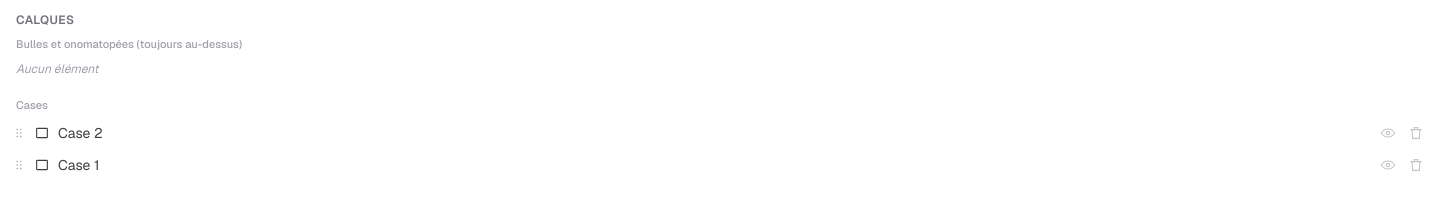
layers panel › selects on click, adds with Shift, hides with the eye and deletes with the bin
Later steps or results of the test are not shown.
What coordinates should you click on to do the following:
click the button "Case 1"
I would click on:
 (79, 165)
Its box is [34, 149, 1372, 181].
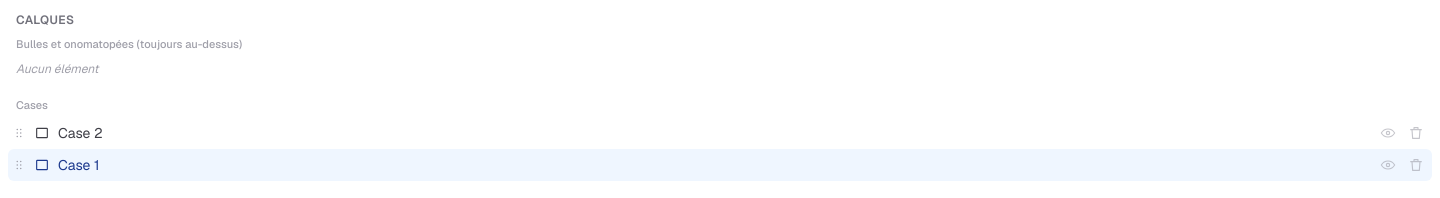
What coordinates should you click on to do the following:
click the button "Case 2"
I would click on:
 (80, 133)
Its box is [34, 117, 1372, 149].
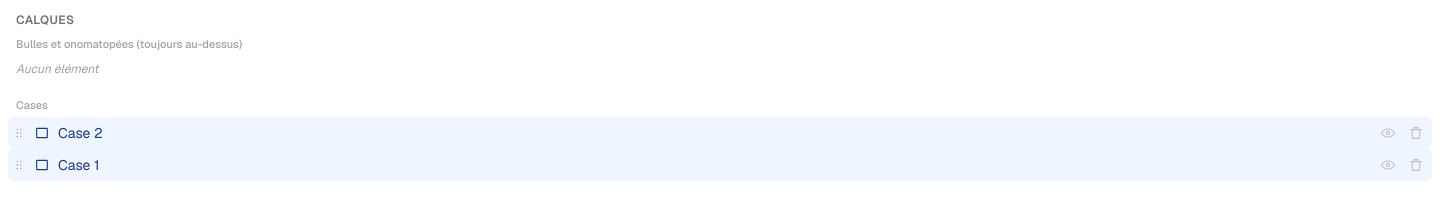
What coordinates should you click on to do the following:
click the button named "Masquer « Case 1 »"
I would click on:
 (1388, 165)
Its box is [1376, 153, 1400, 177].
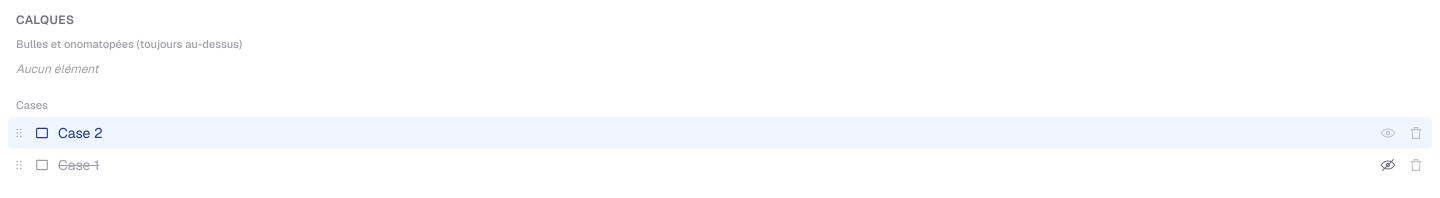
Expected: the button named "Afficher « Case 1 »" is shown, [1376, 153, 1400, 177]
